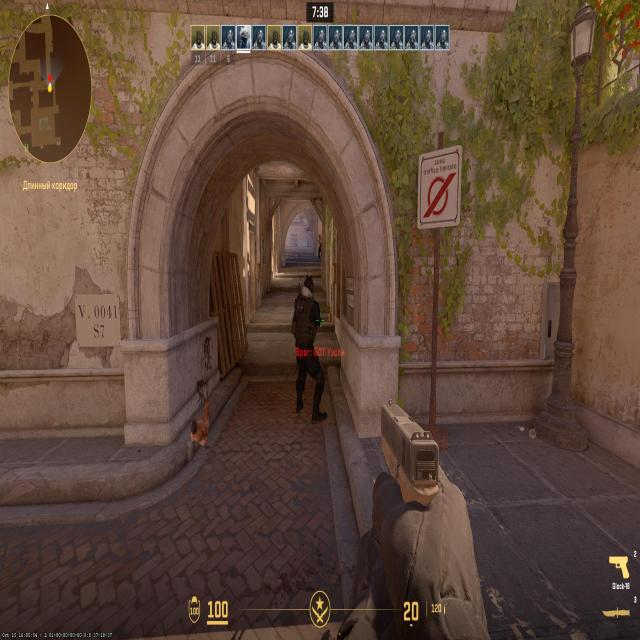CT: (296, 277, 326, 416)
CT_heat: (302, 278, 311, 296)
T: (318, 234, 322, 257)
T_heat: (319, 235, 321, 241)
